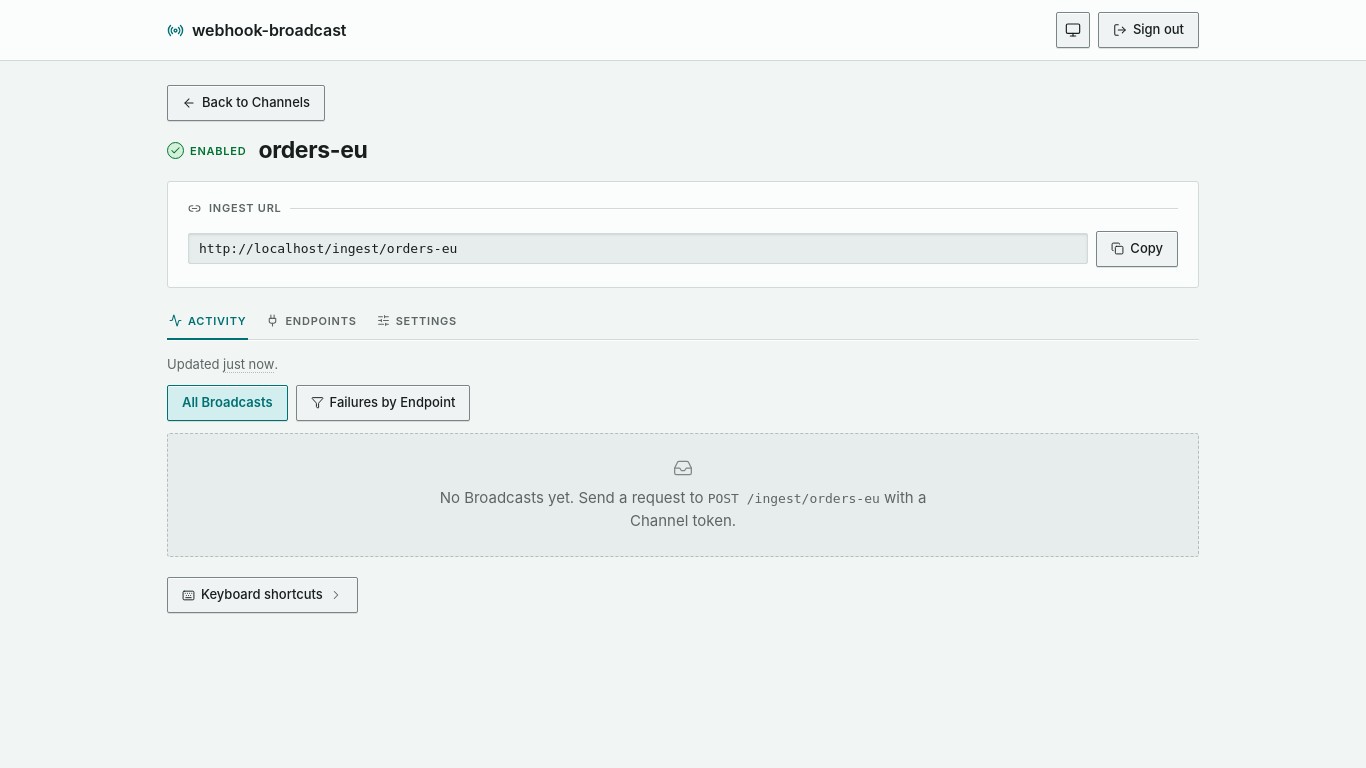
dashboard smoke flow › logging out returns to the directory route and clears the session
Step 1. Click the button "Sign out" → (1148, 30), box [1098,12,1199,48]
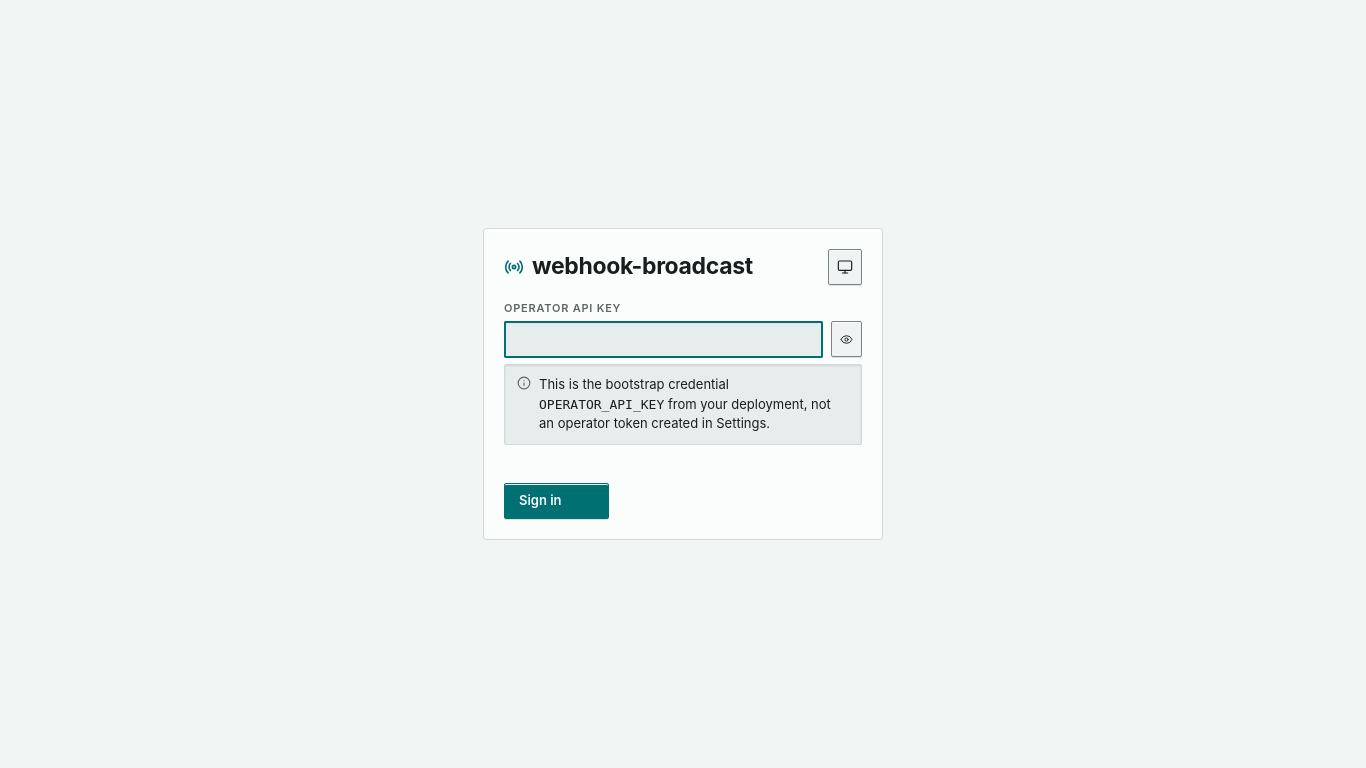
Check: the field labelled "Operator API key" is shown, box [504,321,823,358]
